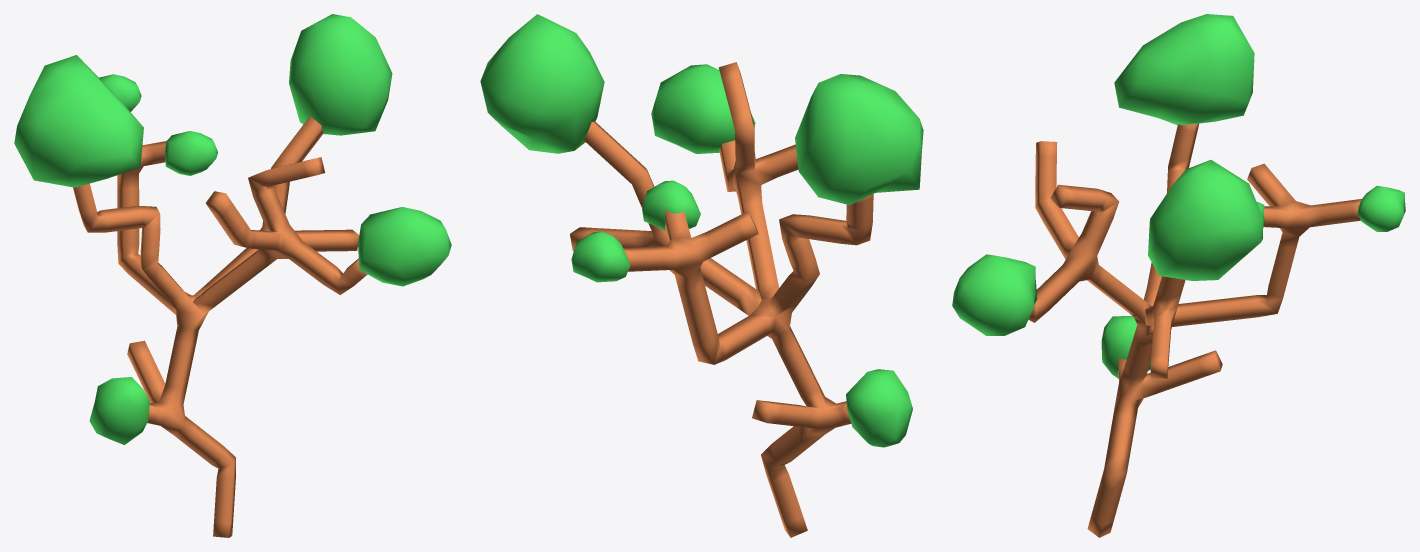
File: tree.fbx
3 views of the same model, side by side, from view 1: azimuth 30°, elevation 25°; view 2: azimuth 150°, elevation 25°; view 3: azimuth 270°, elevation 25° (orthographic). The views are drawn at different scales.
Parts seen in each view (by area): view 1: Plane, Icosphere.002, Icosphere.001, Icosphere, Icosphere.005, Icosphere.004, Icosphere.003; view 2: Plane, Icosphere.002, Icosphere.001, Icosphere, Icosphere.005, Icosphere.003, Icosphere.004; view 3: Plane, Icosphere.002, Icosphere.001, Icosphere, Icosphere.003, Icosphere.005.
Boxes of the visible parts, x1,y1,x2,y2 form: Plane: (73,116,367,537); Icosphere.002: (14,55,143,187); Icosphere.001: (289,14,392,135); Icosphere: (358,207,451,286); Icosphere.005: (89,377,149,444); Icosphere.004: (165,131,217,175); Icosphere.003: (99,74,141,111); Plane: (570,62,873,537); Icosphere.002: (795,74,923,205); Icosphere.001: (480,14,604,153); Icosphere: (651,64,755,153); Icosphere.005: (846,369,912,447); Icosphere.003: (571,231,630,282); Icosphere.004: (642,180,700,230); Plane: (1028,123,1361,537); Icosphere.002: (1114,14,1254,125); Icosphere.001: (1148,160,1263,280); Icosphere: (952,254,1037,335); Icosphere.003: (1357,185,1405,231); Icosphere.005: (1101,316,1150,378).
Bounding box in the file's own units: 1297 × 1542 × 1358.
